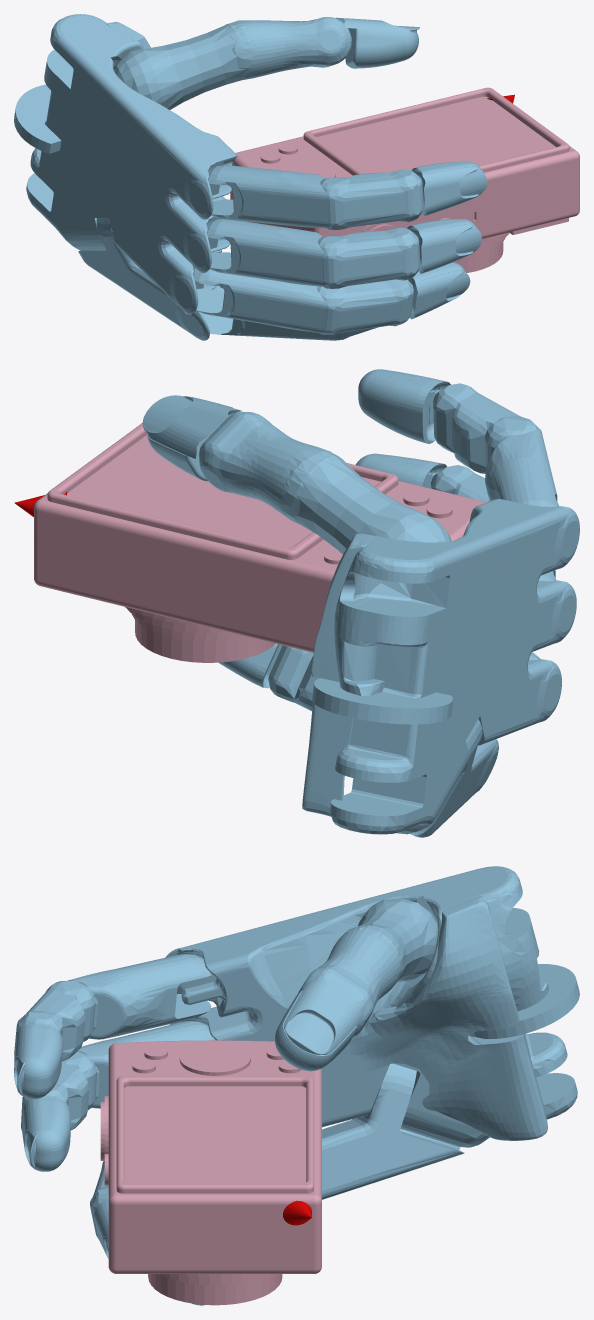
3 renders of one model, top to bottom at view 1: azimuth 30°, elevation 25°; view 2: azimuth 150°, elevation 25°; view 3: azimuth 270°, elevation 25°, orthographic. The views are drawn at different scales.
Parts seen in each view (by area): view 1: world, camera.stl; view 2: world, camera.stl; view 3: world, camera.stl.
Boxes of the visible parts, <box> form: world: <box>14,14,514,340</box>; camera.stl: <box>230,87,579,272</box>; world: <box>14,369,579,837</box>; camera.stl: <box>34,423,486,662</box>; world: <box>14,866,579,1305</box>; camera.stl: <box>100,1040,321,1305</box>.
Bounding box in the file's own units: 0.1737 × 0.1106 × 0.1716.
